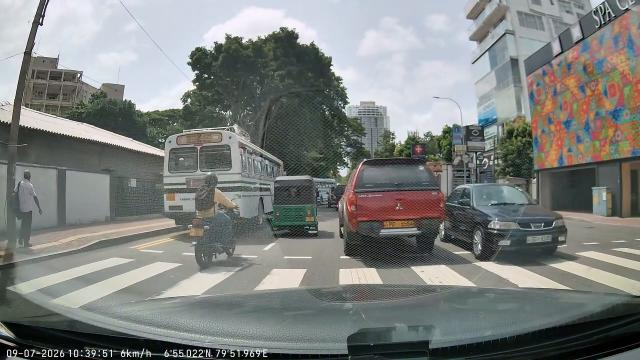number plate: (382, 214, 422, 234)
